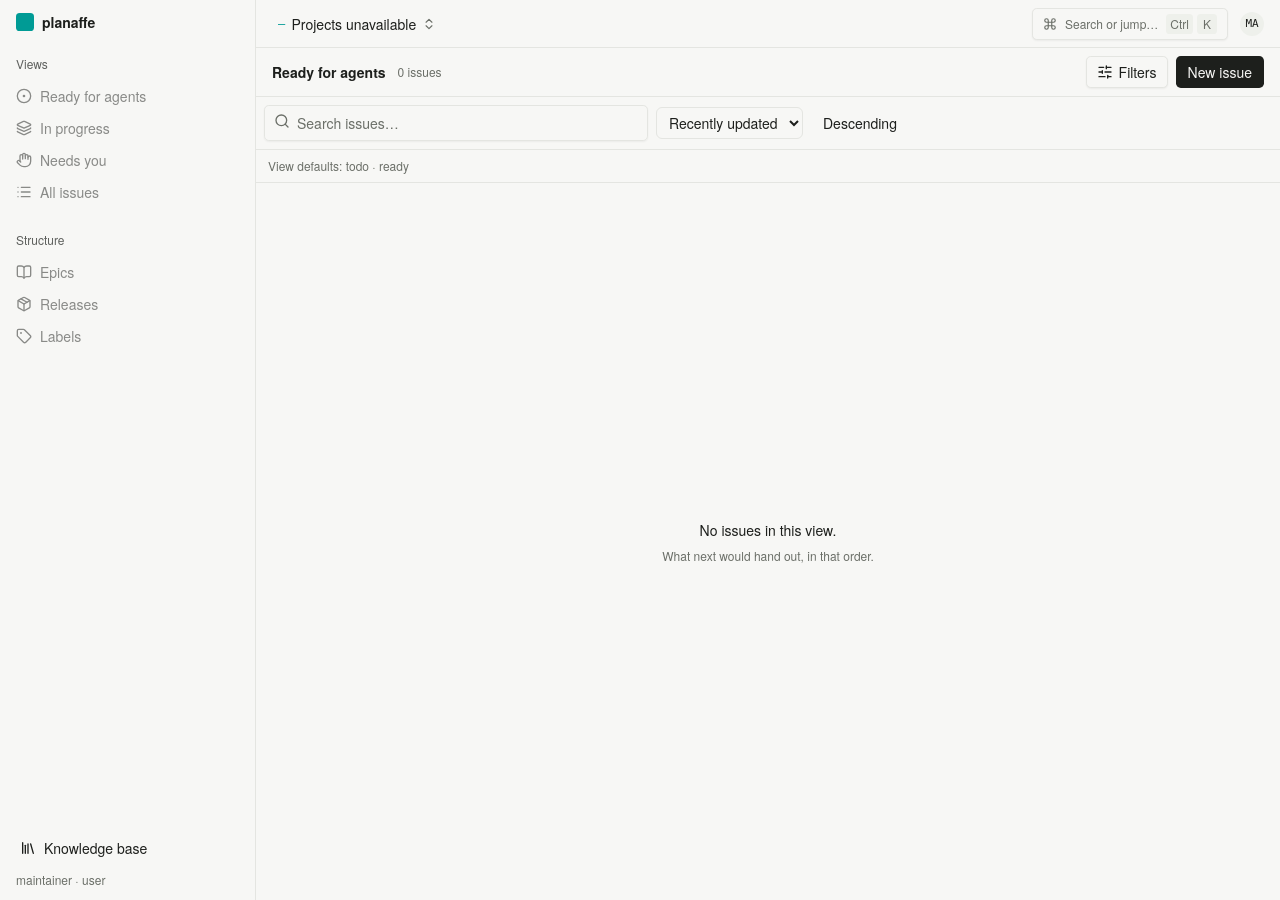
Test case: the shell (ADR 0006) › says the project list failed rather than that there are none
Click the button with aria-label "Switch project". click: (357, 24)
box: [268,8,446,40]
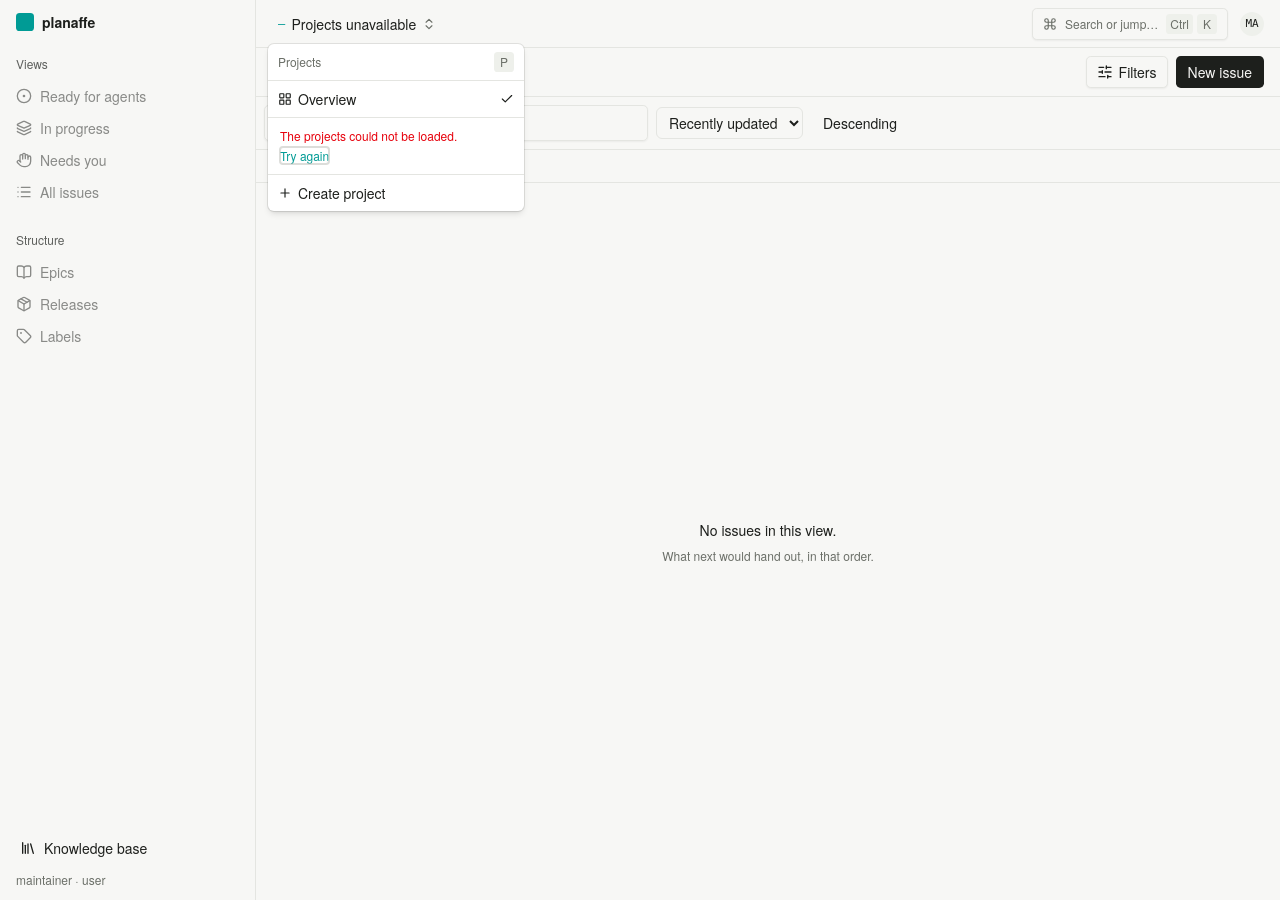
expect the text "The projects could not be loaded." is shown: met, box [280,127,457,144]
Click the button "Try again". click: (305, 156)
box: [280,148,329,164]
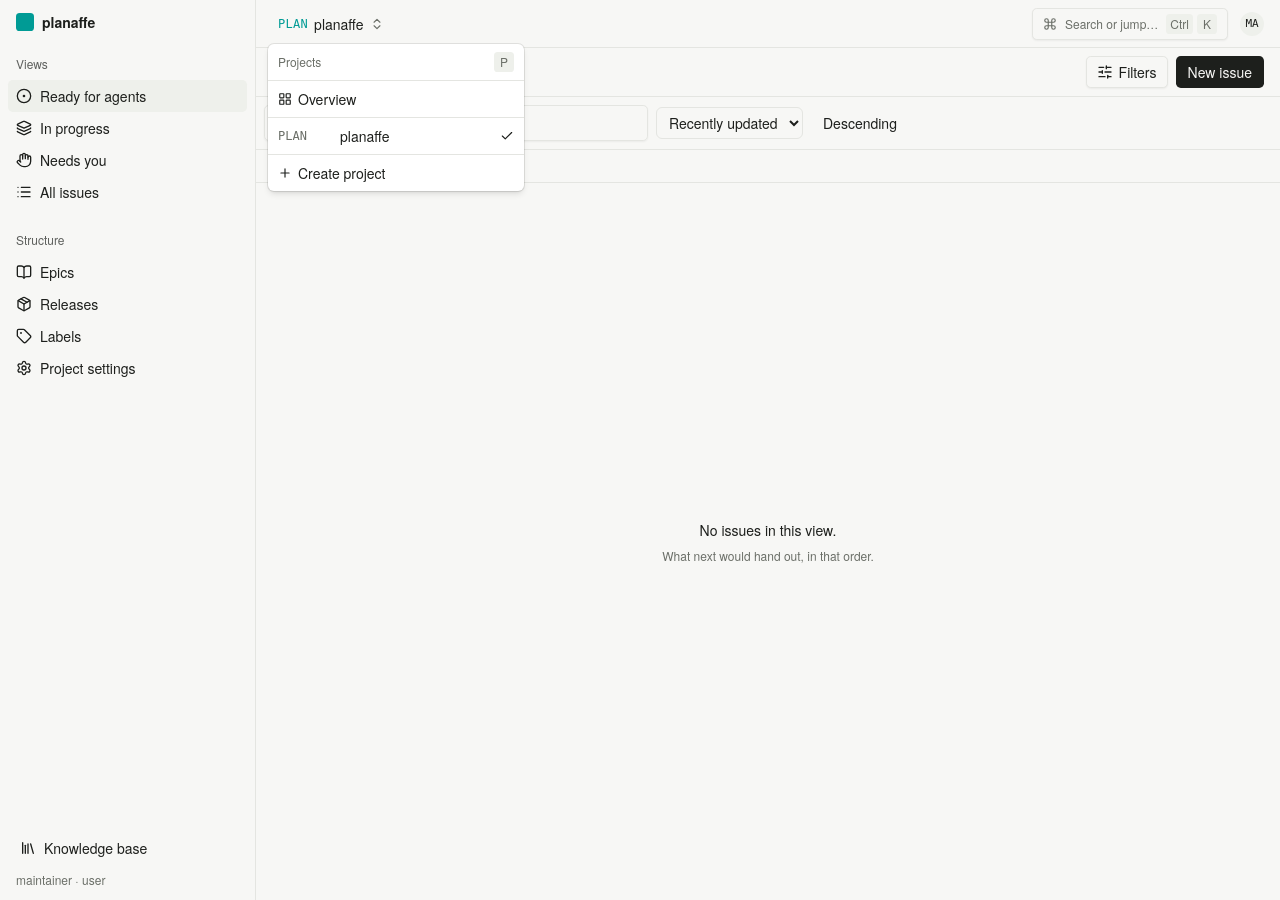
expect the menu item "PLAN planaffe" is shown: met, box [272,122,520,150]
